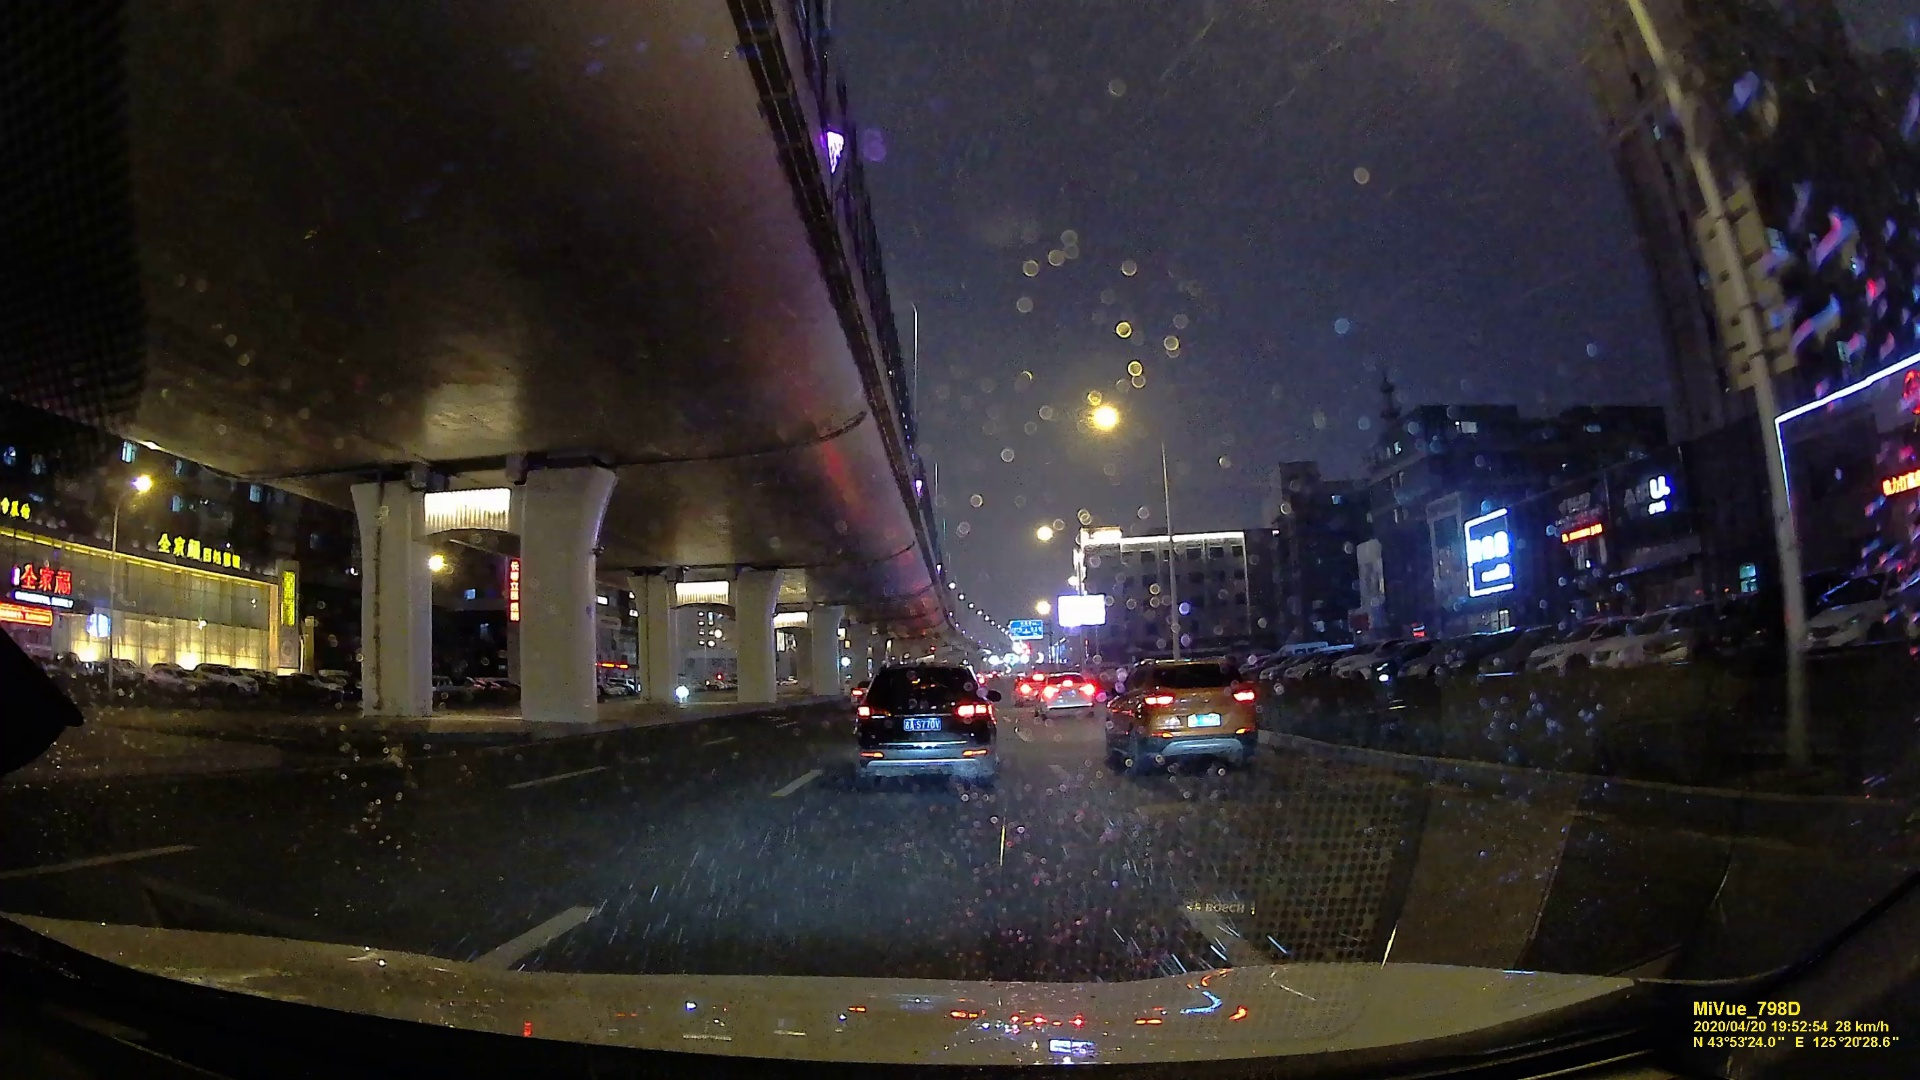traffic_sign: (1011, 618, 1040, 638)
vehicle: (1104, 655, 1261, 778), (848, 662, 997, 789), (1033, 673, 1095, 717)
